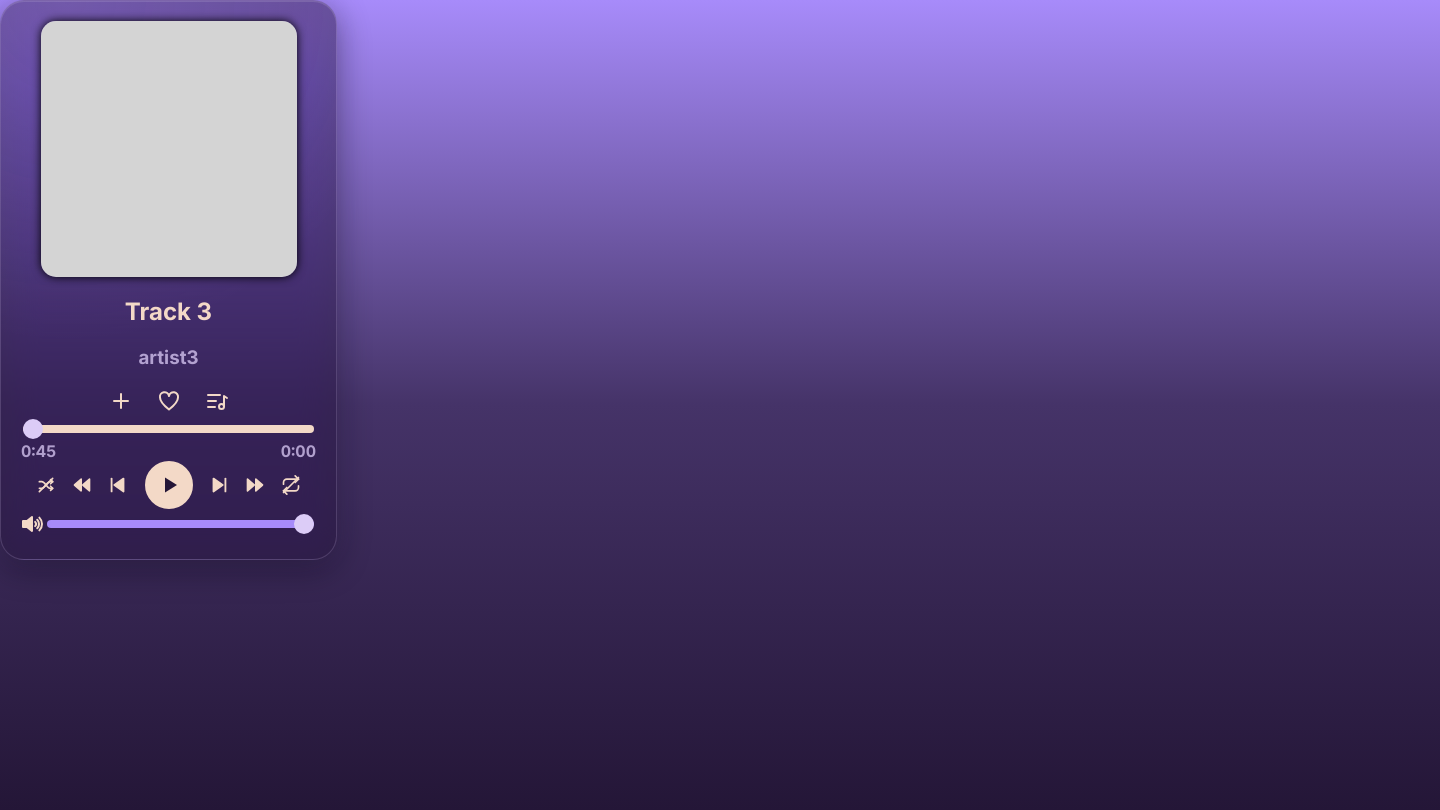
Scenario: AudioPlayer › skip next / previous › previous › restarts the current track after 3 seconds instead of going back
Click the button named "Previous" at (118, 486), box x1=107 y1=460 x2=129 y2=512
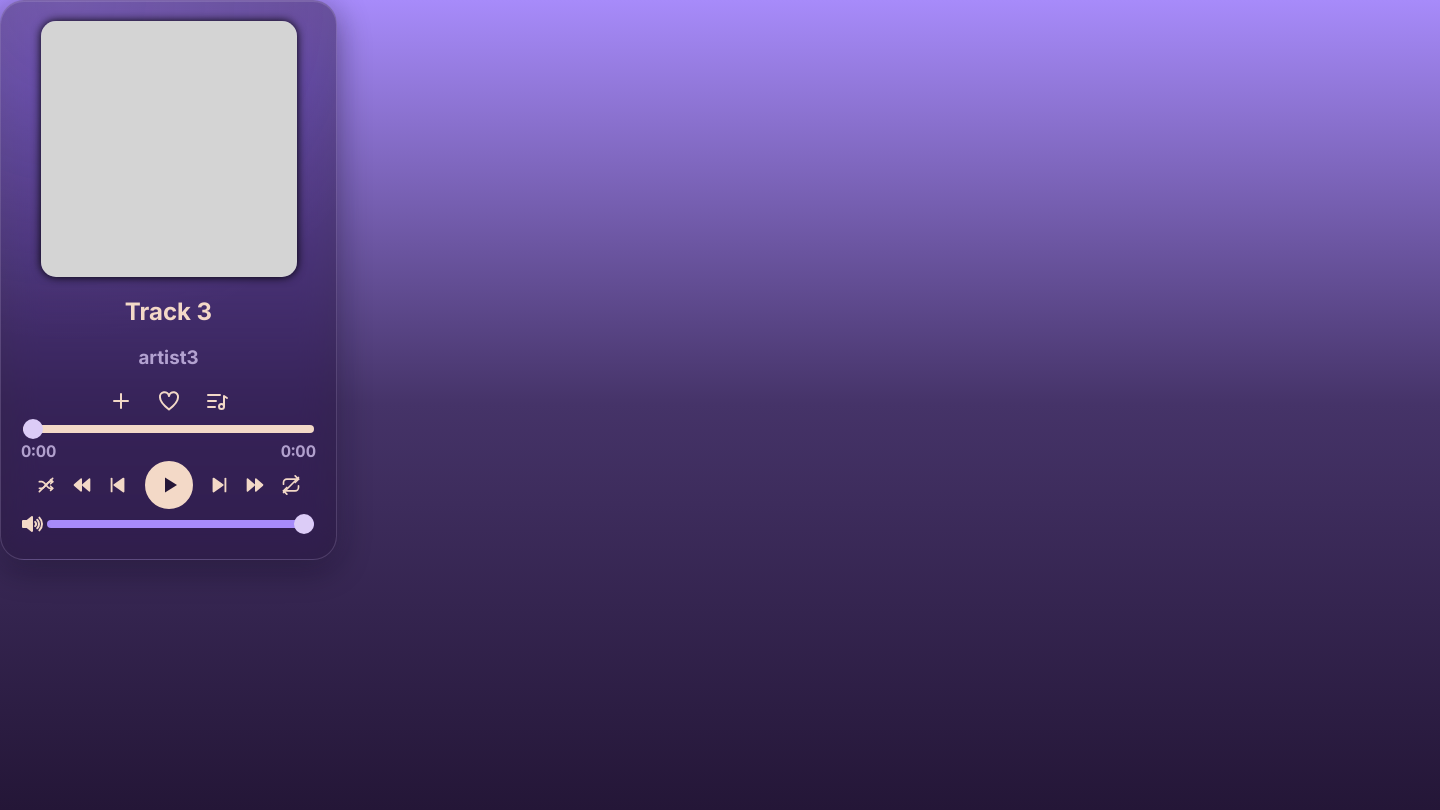
expect the 1st text "0:00" is shown: met, box x1=21 y1=440 x2=56 y2=460
